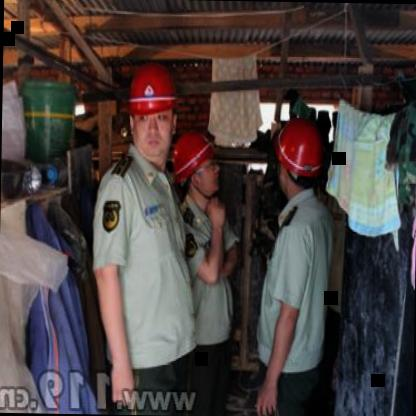helmet: (266, 103, 329, 212), (116, 58, 182, 160), (169, 129, 224, 204)
